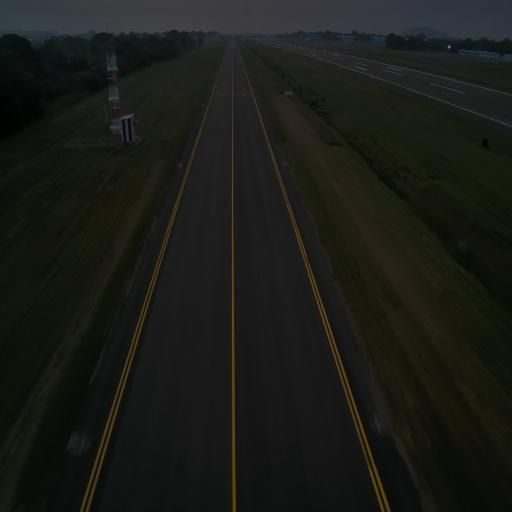on: (283, 159, 286, 164), (179, 161, 181, 166), (203, 104, 204, 106), (261, 103, 262, 105)
